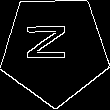N_E: (30, 29, 79, 70)
